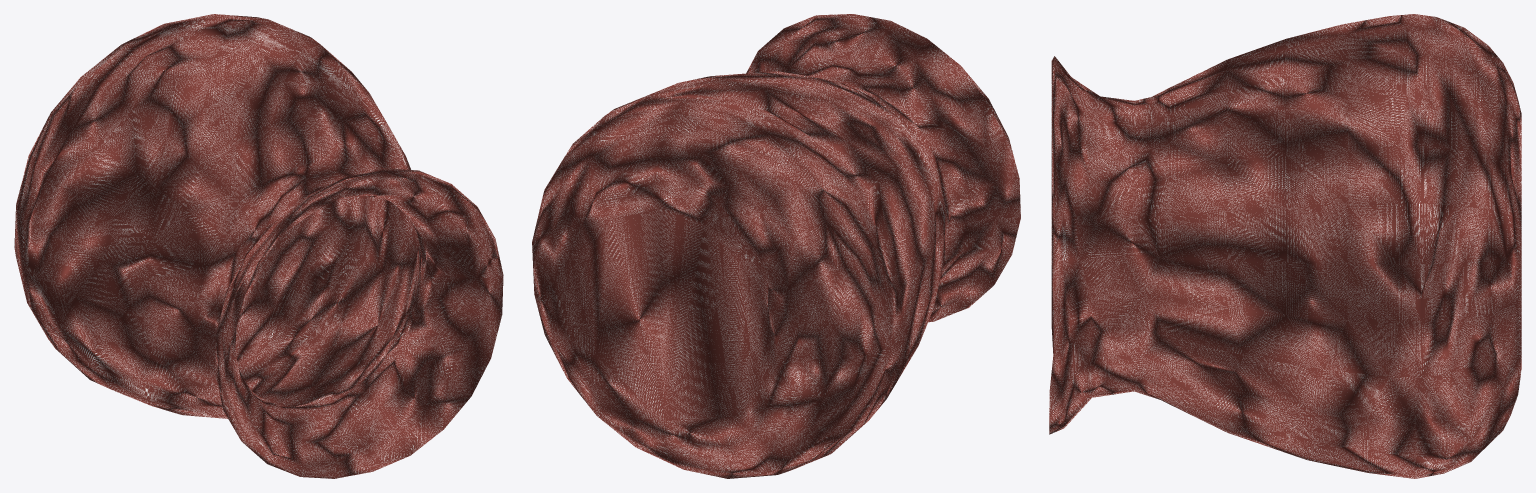
File: model_align.obj
The picture shows the model from 3 angles, left to right: view 1: azimuth 30°, elevation 25°; view 2: azimuth 150°, elevation 25°; view 3: azimuth 270°, elevation 25°; orthographic projection. The views are drawn at different scales.
Bounding box in the file's own units: 0.0866 × 0.0869 × 0.0885.
